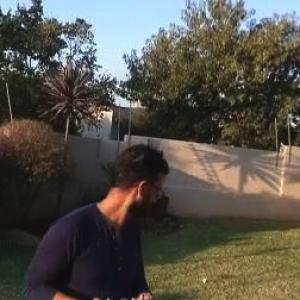follow: (14, 138, 174, 299)
